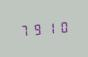nine: (31, 21, 43, 36)
one: (44, 19, 56, 35)
seven: (18, 22, 30, 38)
zero: (57, 18, 69, 34)
